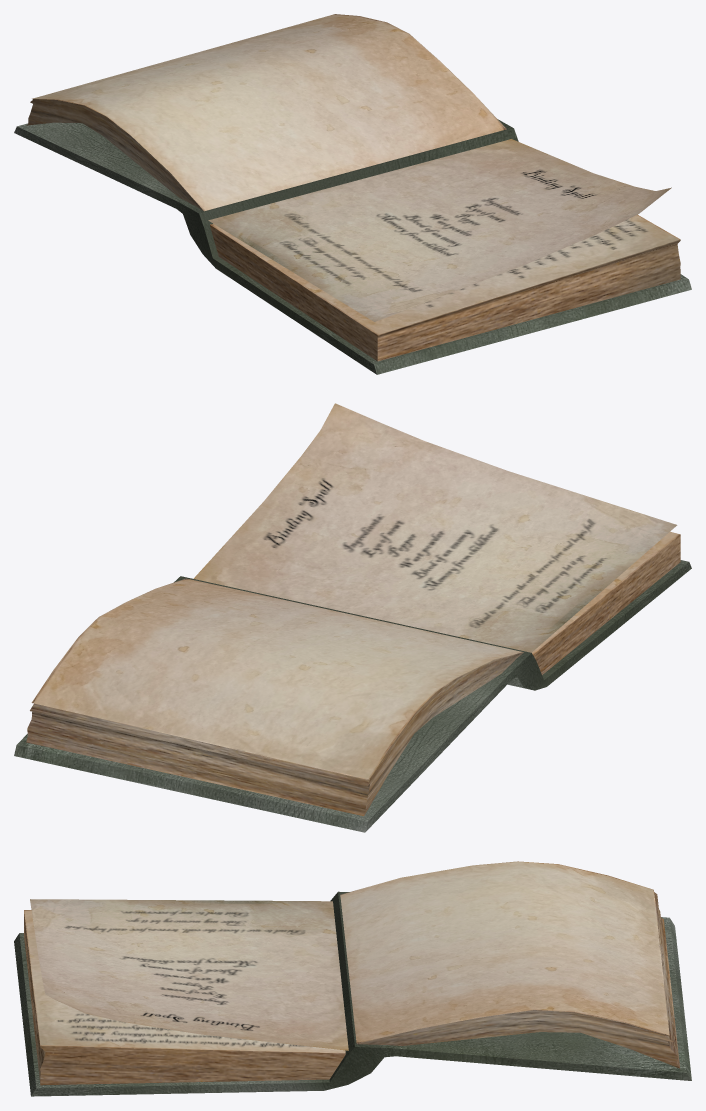
File: SM_Book.fbx
3 renders of one model, top to bottom at view 1: azimuth 30°, elevation 25°; view 2: azimuth 150°, elevation 25°; view 3: azimuth 270°, elevation 25°, orthographic. The views are drawn at different scales.
Parts seen in each view (by area): view 1: DreamJournal; view 2: DreamJournal; view 3: DreamJournal.
Part boxes in pixels (left/top/right/bottom): DreamJournal: left=14, top=14, right=691, bottom=374; DreamJournal: left=14, top=403, right=691, bottom=832; DreamJournal: left=14, top=861, right=691, bottom=1096.
Bounding box in the file's own units: 5.3 × 1.37 × 9.02.
